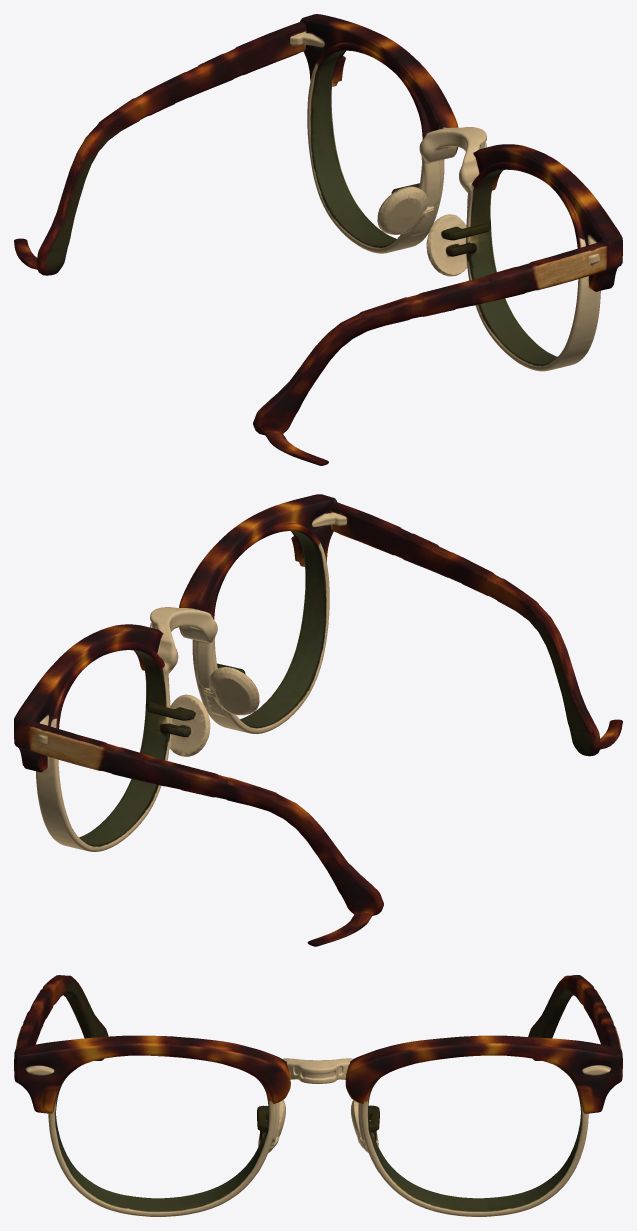
Rendered from ochki_9_optimized.glb.
The picture shows the model from 3 angles, top to bottom: view 1: azimuth 30°, elevation 25°; view 2: azimuth 150°, elevation 25°; view 3: azimuth 270°, elevation 25°; orthographic projection.
Visible parts, largest first — view 1: tripo_node_761a887c-a254-42a4-a7b0-594ba3ce08e0; view 2: tripo_node_761a887c-a254-42a4-a7b0-594ba3ce08e0; view 3: tripo_node_761a887c-a254-42a4-a7b0-594ba3ce08e0.
Part boxes in pixels (box(x1,y1,x2,y2)): tripo_node_761a887c-a254-42a4-a7b0-594ba3ce08e0: box(14, 14, 622, 465); tripo_node_761a887c-a254-42a4-a7b0-594ba3ce08e0: box(14, 494, 622, 946); tripo_node_761a887c-a254-42a4-a7b0-594ba3ce08e0: box(14, 975, 622, 1216).
Bounding box in the file's own units: 0.6211 × 0.3283 × 0.9801.
Materials: 1 (1 with a texture image).
